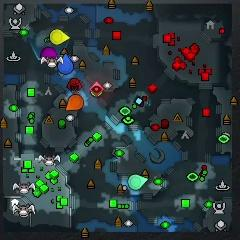p1: (58, 54, 73, 74)
p2: (129, 174, 147, 190)
p3: (40, 47, 56, 59)
p4: (50, 28, 69, 44)
p5: (65, 94, 84, 111)
